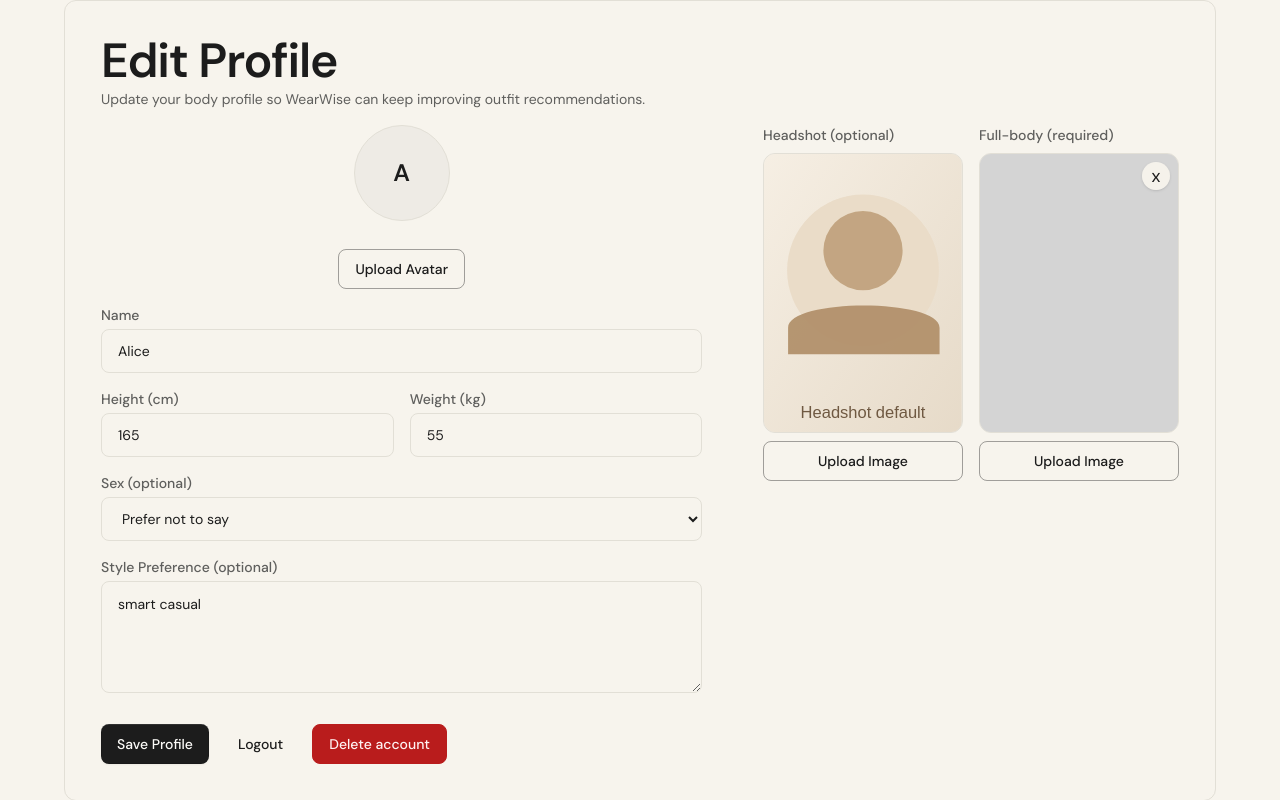
Test case: ProfilePage › shows a validation error when height or weight is invalid
This screenshot has width=1280, height=800.
Step 1. Replace the text in the field with placeholder "170" below "Height (cm)" with "0" → (247, 435), box [101,413,394,457]
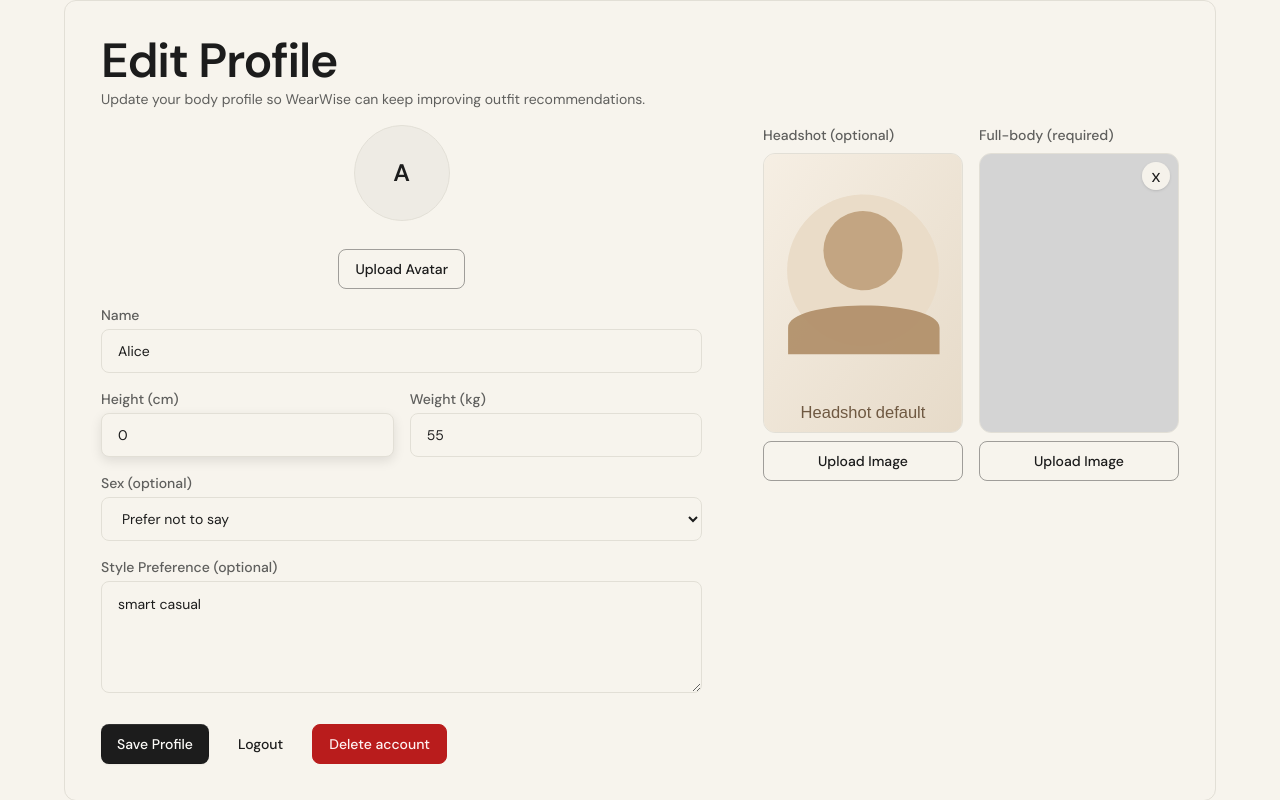
Step 2. Replace the text in the field with placeholder "60" below "Weight (kg)" with "abc" → (556, 435), box [410,413,702,457]
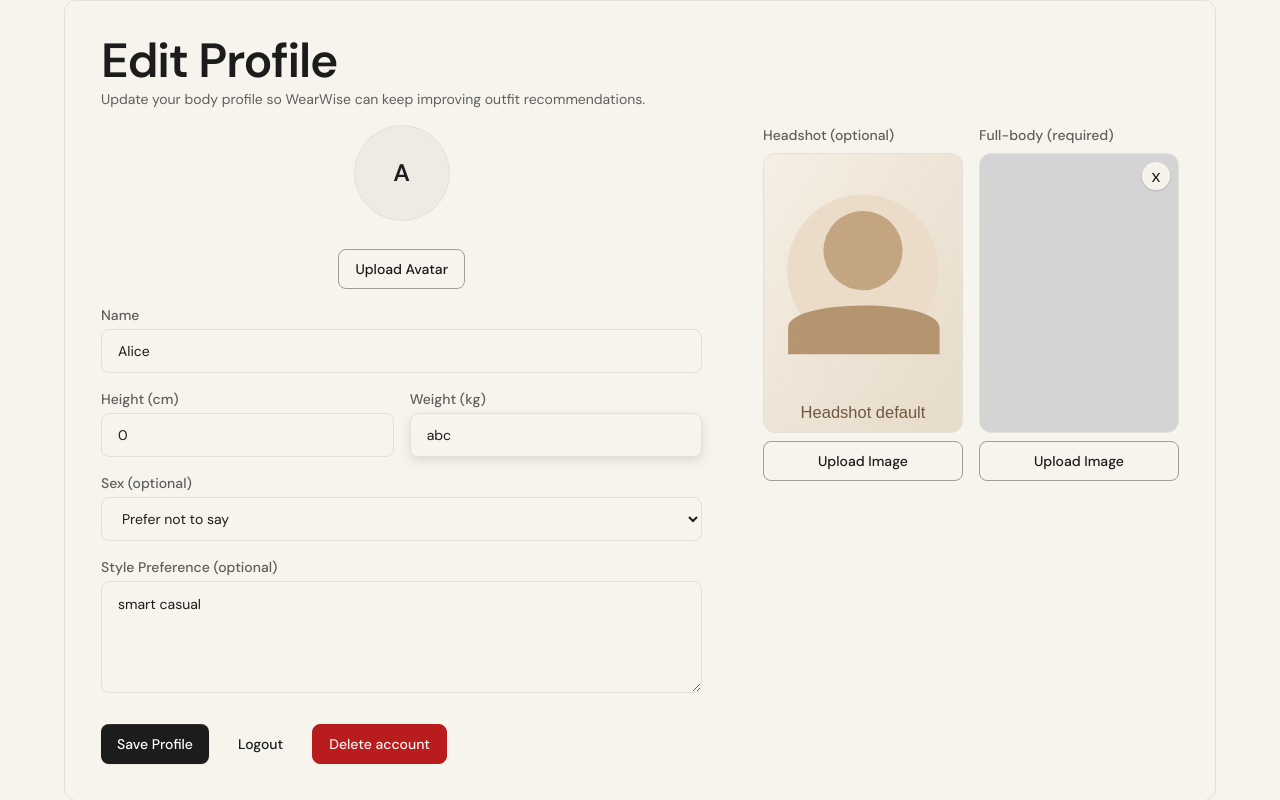
Step 3. Click the button "Save Profile" → (155, 744), box [101,724,209,764]
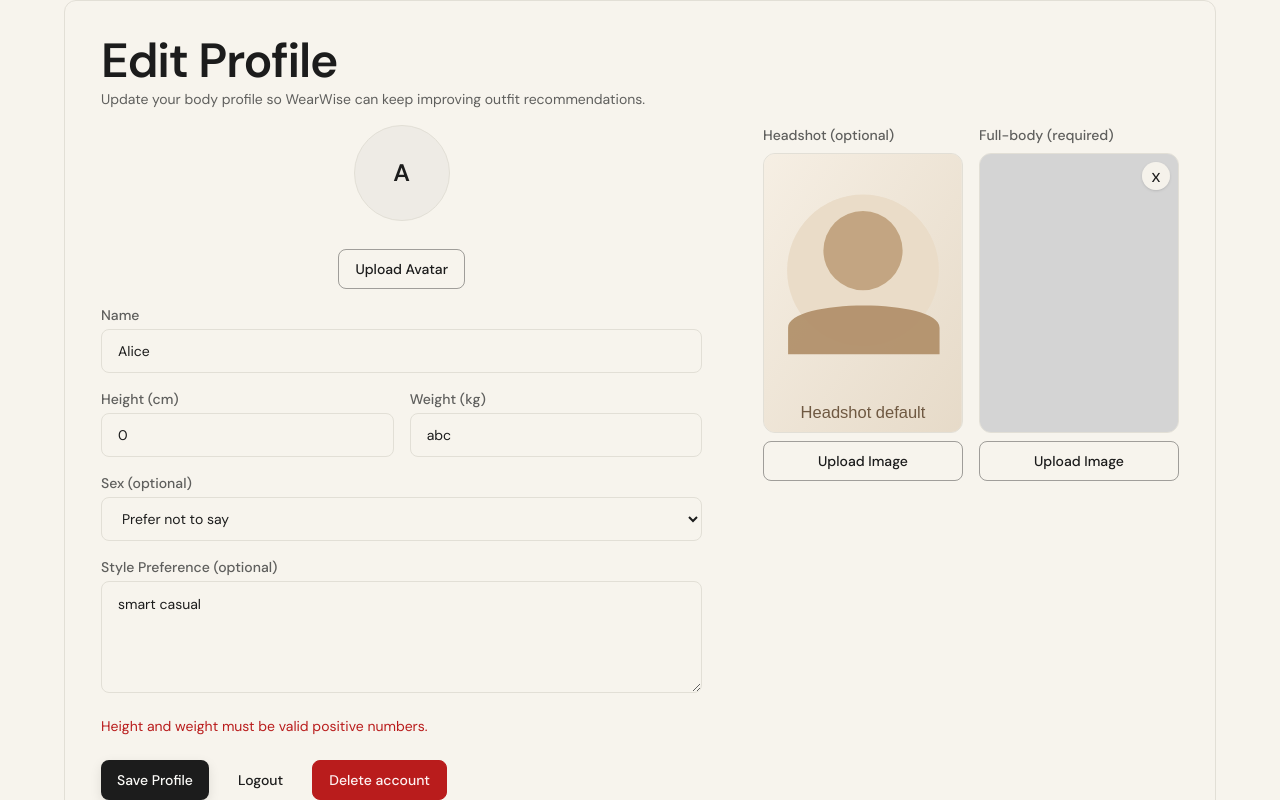
Expected: the text "Height and weight must be valid positive numbers." is shown, [101,717,428,735]
